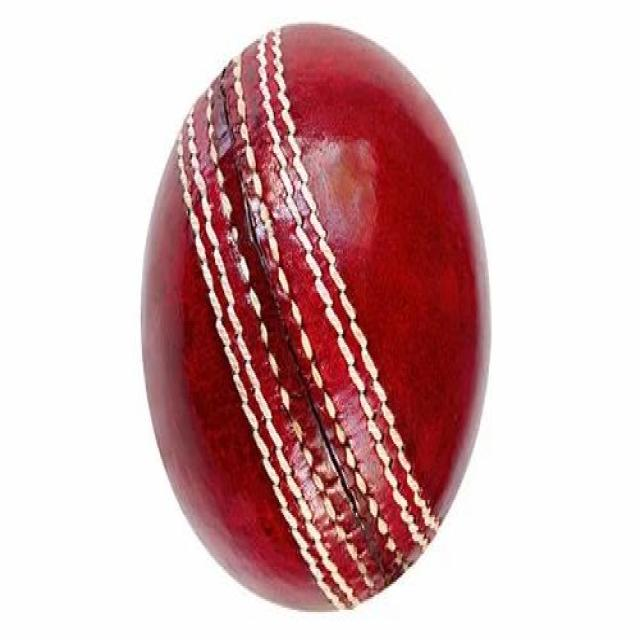ball: (137, 15, 498, 614)
